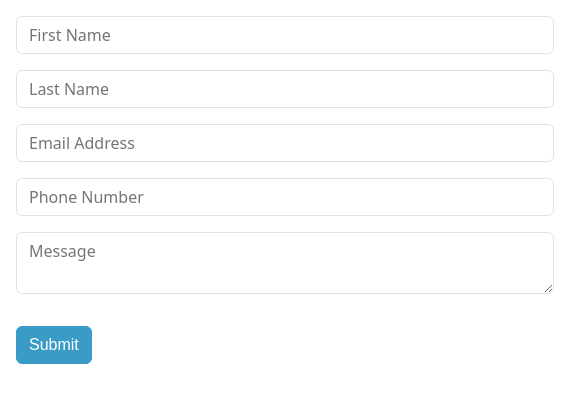
Test: App › displays error message if POST request fails
The width and height of the screenshot is (571, 419).
Type "John" into the field with test id "first-name" at (285, 35), box [16,16,554,54]
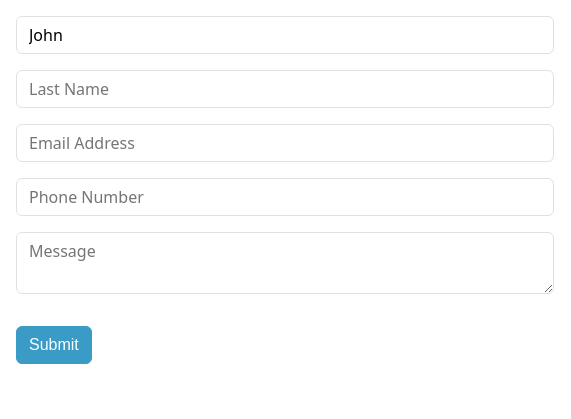
Type "Smith" into the field with test id "last-name" at (285, 89), box [16,70,554,108]
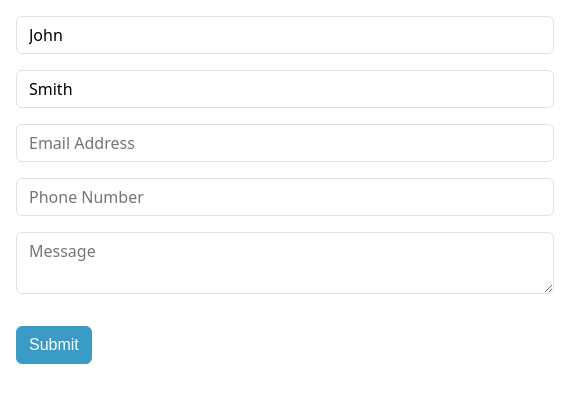
Type "jsmith@example.com" into the field with test id "email-address" at (285, 143), box [16,124,554,162]
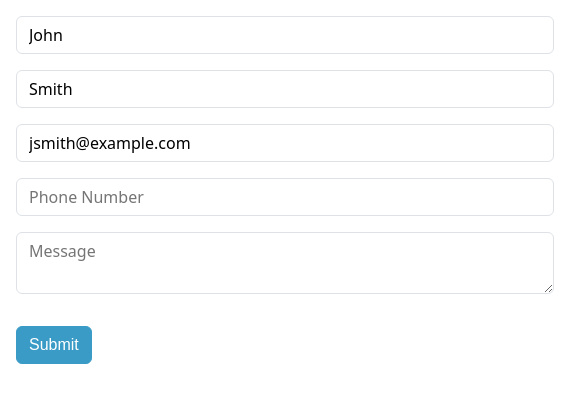
Type "1234567890" into the field with test id "phone-number" at (285, 197), box [16,178,554,216]
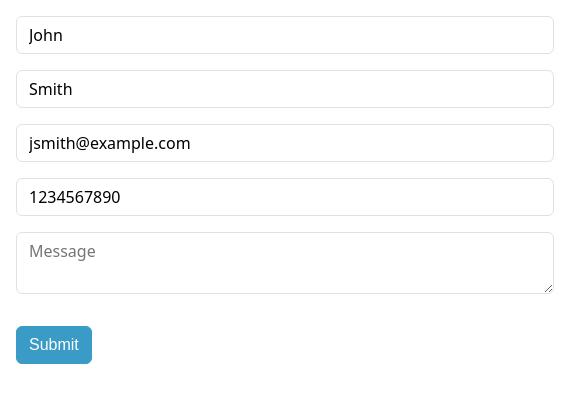
Type "I would love to hear from you." into the text box with test id "message" at (285, 263), box [16,232,554,294]
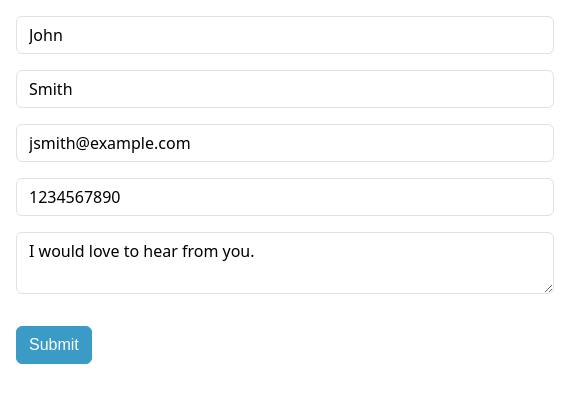
Click the button "Submit" at (54, 345), box [16,326,92,364]
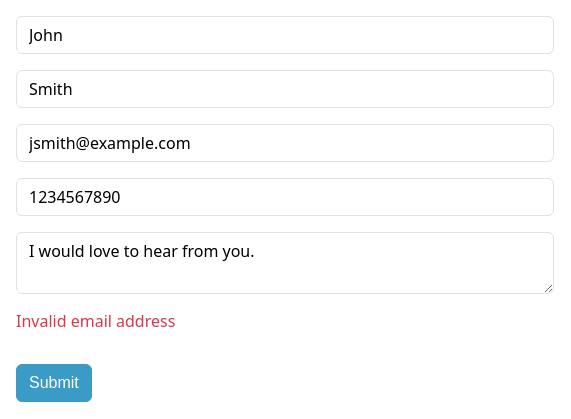
Result: the text with test id "error-message" reads "Invalid email address" at [16,310,175,332]
